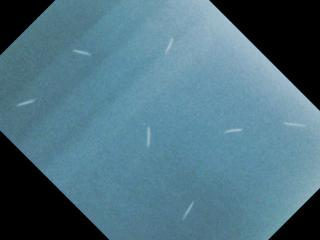scratch: (178, 193, 200, 221), (14, 94, 44, 110), (142, 123, 155, 153), (160, 34, 176, 57), (71, 45, 93, 61), (282, 118, 307, 132), (221, 126, 244, 135)
